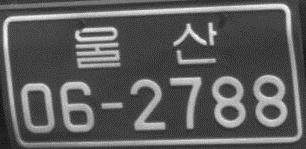-: (97, 98, 126, 113)
0: (19, 81, 57, 137)
2: (129, 76, 168, 133)
6: (58, 80, 94, 133)
7: (167, 74, 203, 131)
8: (250, 72, 289, 130), (210, 74, 247, 131)
울산_D: (73, 20, 218, 71)
